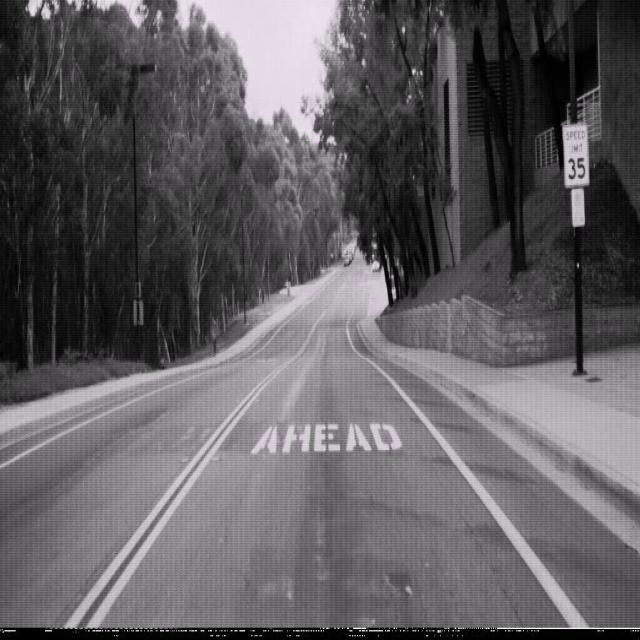speedLimit35: (562, 121, 590, 188)
